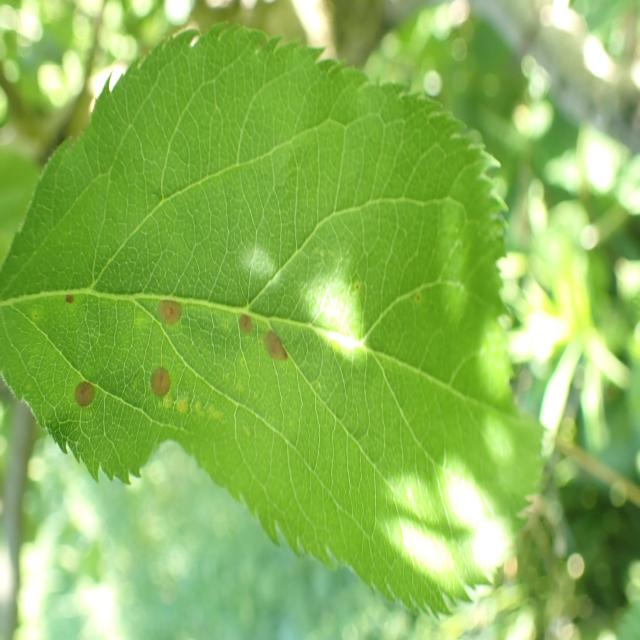Black Rot: (68, 366, 111, 428), (259, 311, 293, 382), (229, 291, 260, 351), (144, 355, 176, 413), (146, 294, 193, 332), (64, 278, 94, 328)
